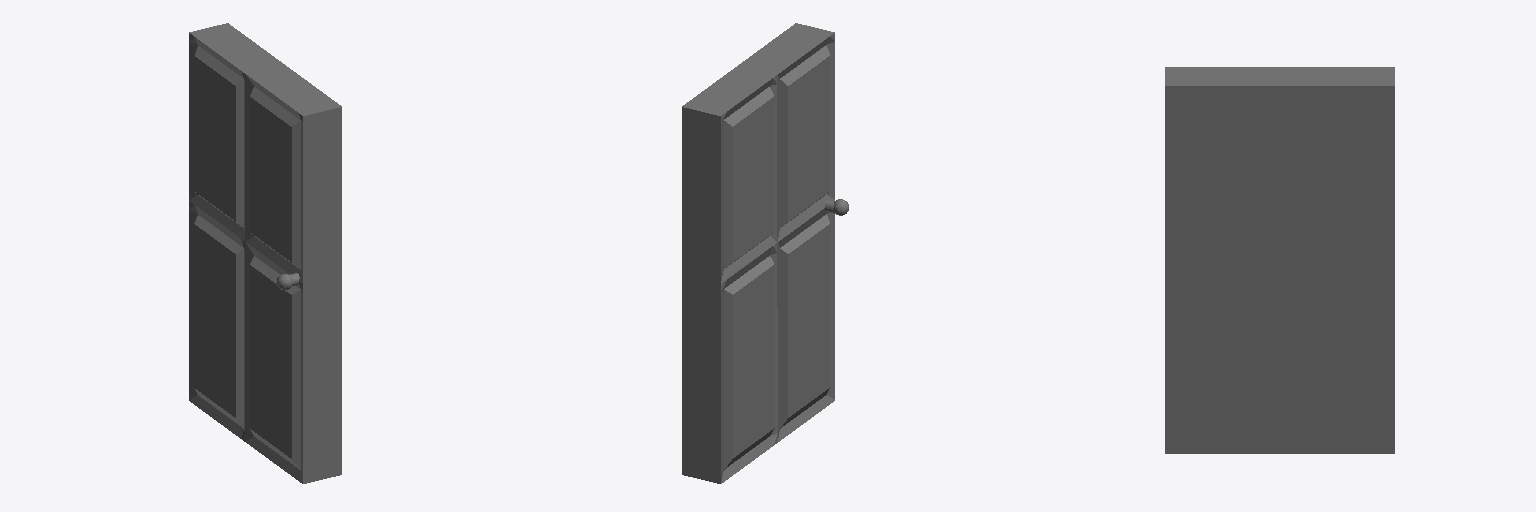
Rendered from DoorAnchor.obj.
3 renders of one model, left to right at view 1: azimuth 30°, elevation 25°; view 2: azimuth 150°, elevation 25°; view 3: azimuth 270°, elevation 25°, orthographic.
Visible parts, largest first — view 1: DoorAnchor:polySurface1; view 2: DoorAnchor:polySurface1; view 3: DoorAnchor:polySurface1.
Boxes of the visible parts, <box> form: DoorAnchor:polySurface1: <box>189,23,341,483</box>; DoorAnchor:polySurface1: <box>682,23,848,483</box>; DoorAnchor:polySurface1: <box>1165,67,1394,453</box>.
Bounding box in the file's own units: 0.4718 × 2.84 × 1.6.